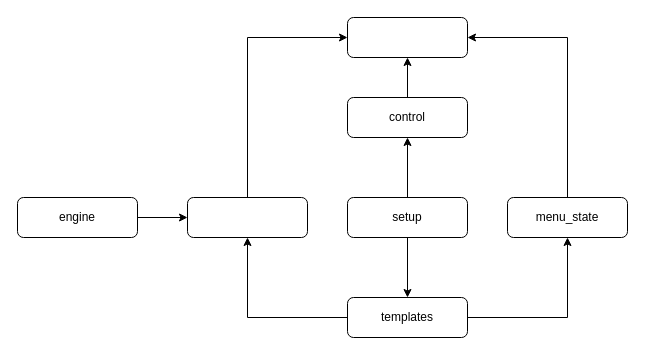
This 645x355 diagram has some shape labels left out. The centre of each missing label's shape, as x and y in pixels:
game_state: point 247,217
main: point 407,37
